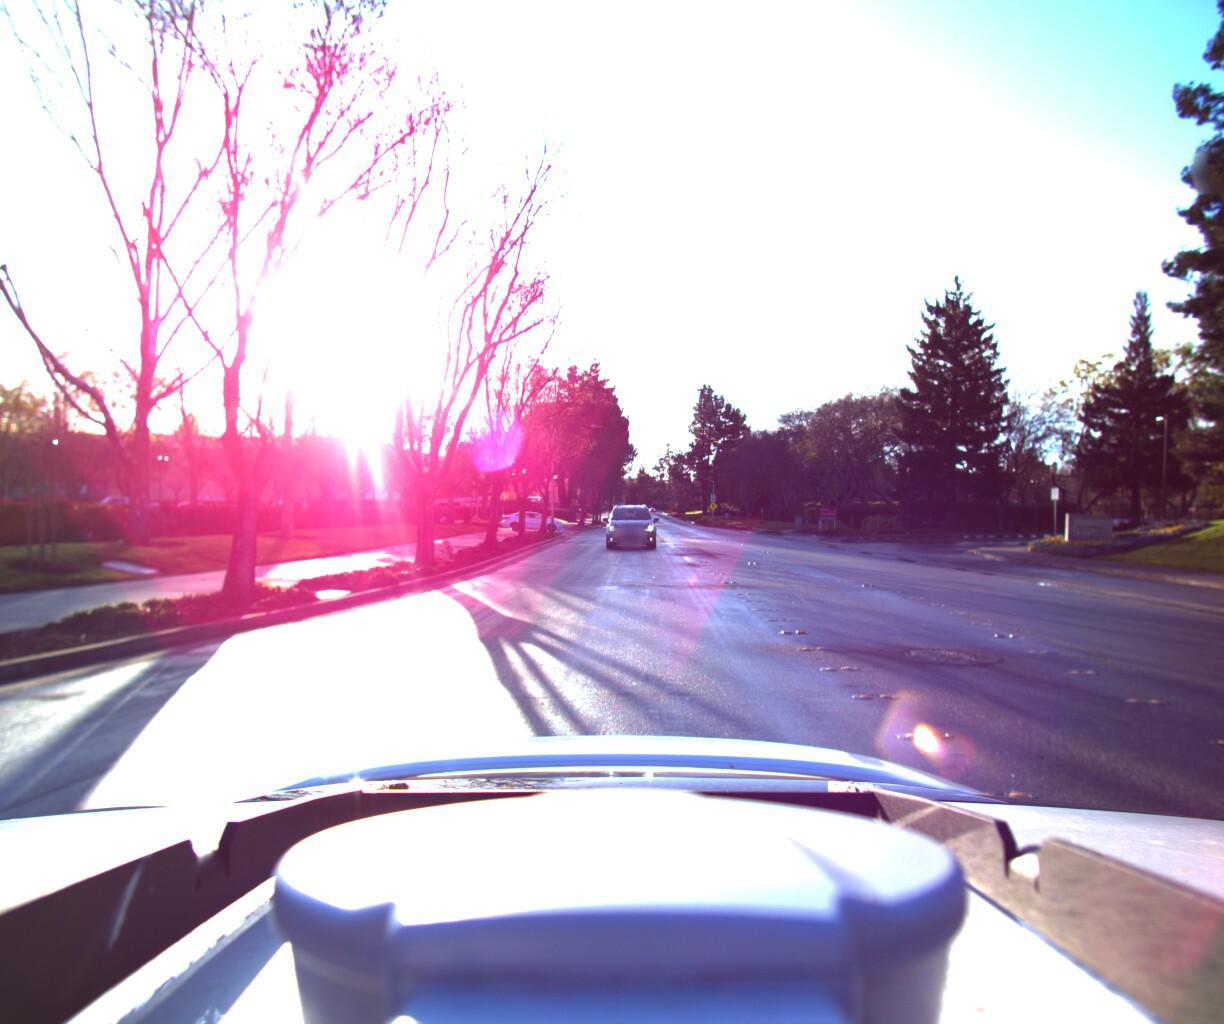car: (606, 500, 658, 549), (503, 508, 565, 530)
